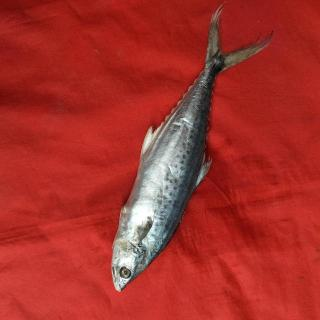Ikan: (94, 14, 246, 301)
